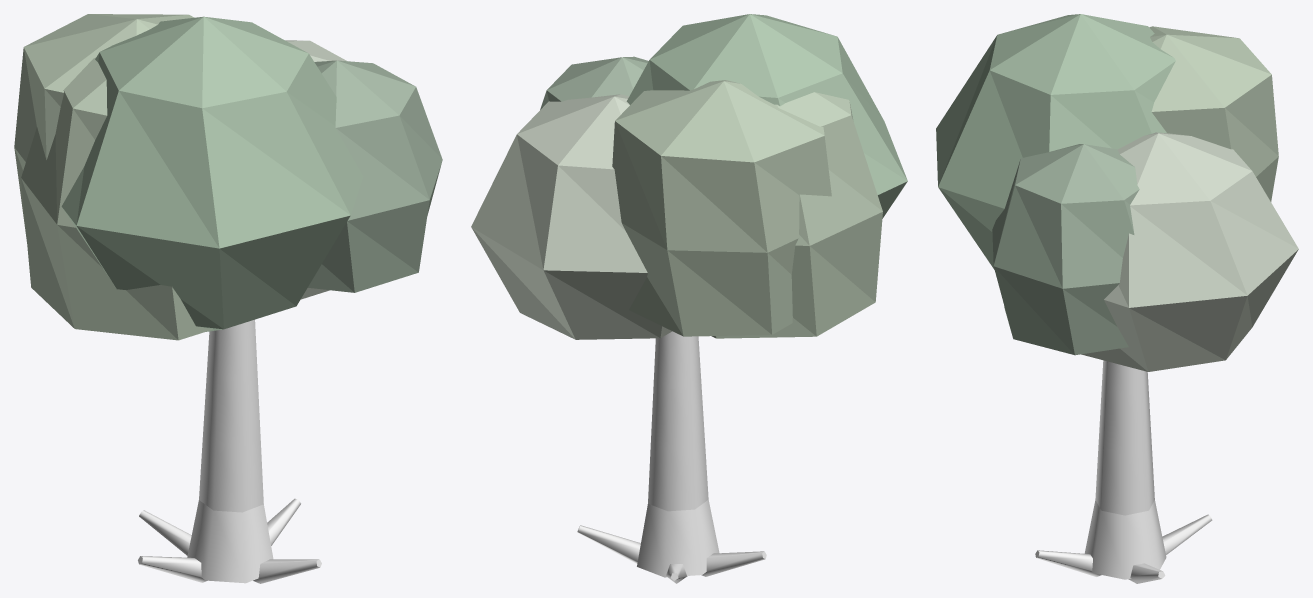
Rendered from tree_oak_1.glb.
3 views of the same model, side by side, from view 1: azimuth 30°, elevation 25°; view 2: azimuth 150°, elevation 25°; view 3: azimuth 270°, elevation 25° (orthographic). The views are drawn at different scales.
Parts seen in each view (by area): view 1: Tree; view 2: Tree; view 3: Tree.
Boxes of the visible parts, left/top/right/bottom form: Tree: left=14, top=14, right=442, bottom=583; Tree: left=471, top=14, right=907, bottom=583; Tree: left=936, top=14, right=1298, bottom=583.
Bounding box in the file's own units: 5.3 × 7.83 × 4.82.
